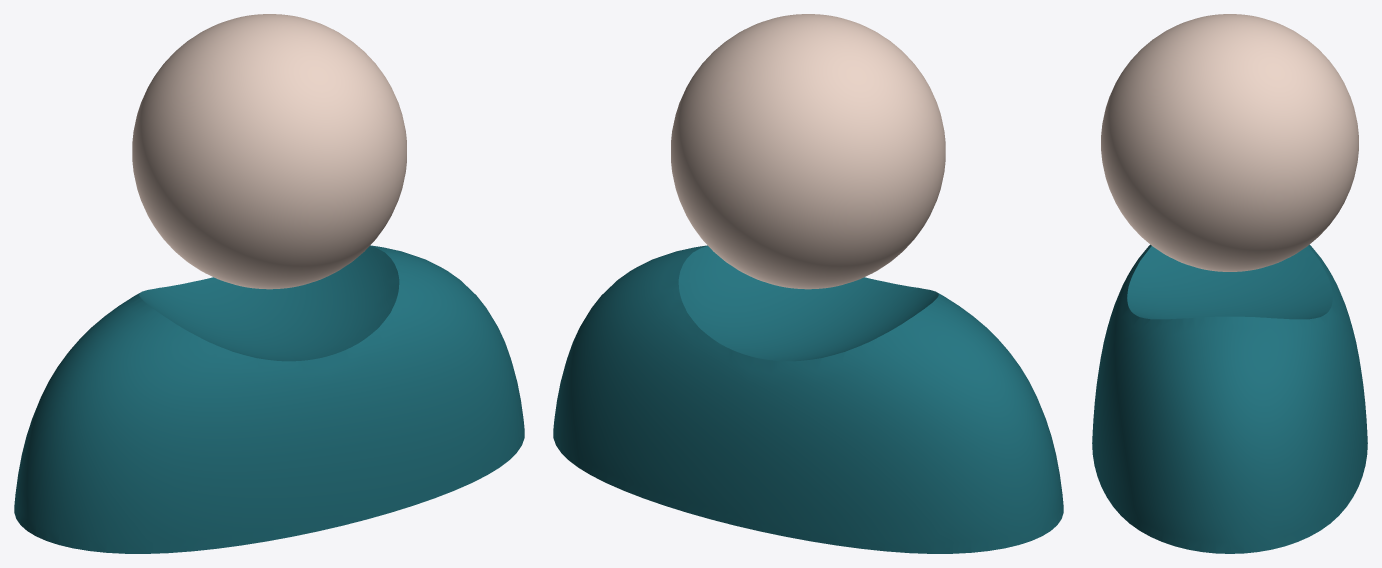
The model's file is InteractiveTreePersonFemale.dae.
The picture shows the model from 3 angles, left to right: view 1: azimuth 30°, elevation 25°; view 2: azimuth 150°, elevation 25°; view 3: azimuth 270°, elevation 25°; orthographic projection. The views are drawn at different scales.
Parts seen in each view (by area): view 1: model; view 2: model; view 3: model.
Boxes of the visible parts, x1,y1,x2,y2 form: model: [14, 14, 524, 553]; model: [553, 14, 1063, 553]; model: [1092, 14, 1367, 553].
Bounding box in the file's own units: 2.27 × 1.99 × 1.19.
